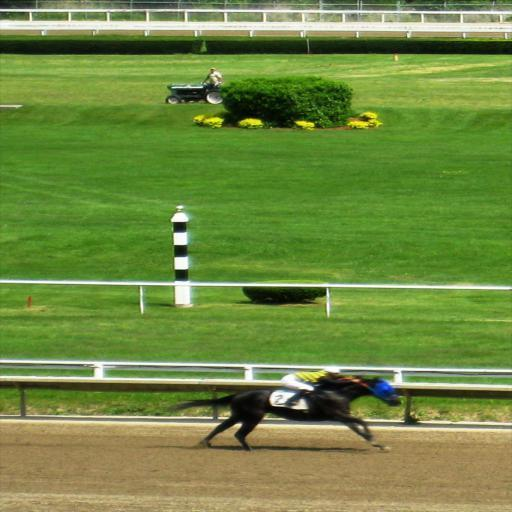horse: (156, 373, 404, 452)
